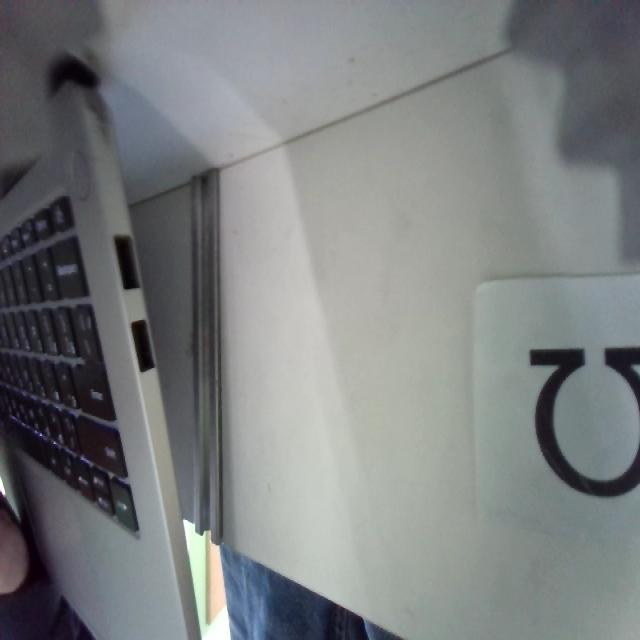OM: (527, 346, 639, 495)
